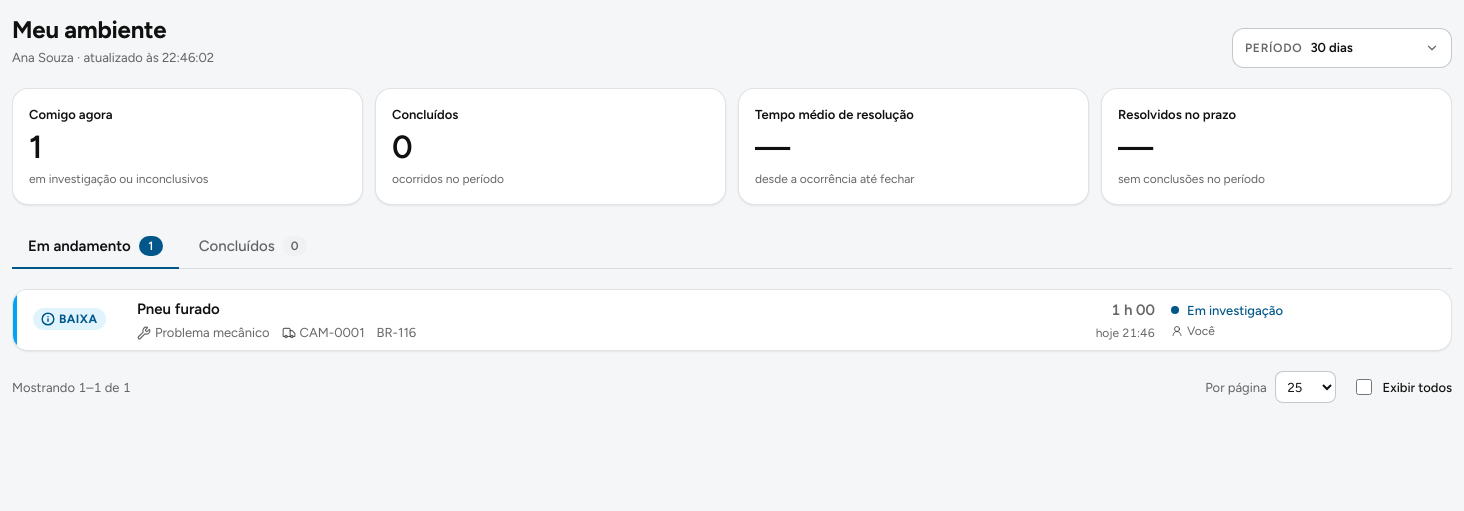
Test: WorkspacePage › lista só os incidentes do analista logado, com os concluídos numa aba à parte
Check: the text "Pneu furado" is shown, box top-left (137, 300), bottom-right (220, 318)
Check: the 2nd text "0" is shown, box top-left (283, 236), bottom-right (307, 256)
Click the tab "Concluídos 0" at (253, 247), box top-left (183, 225), bottom-right (323, 269)
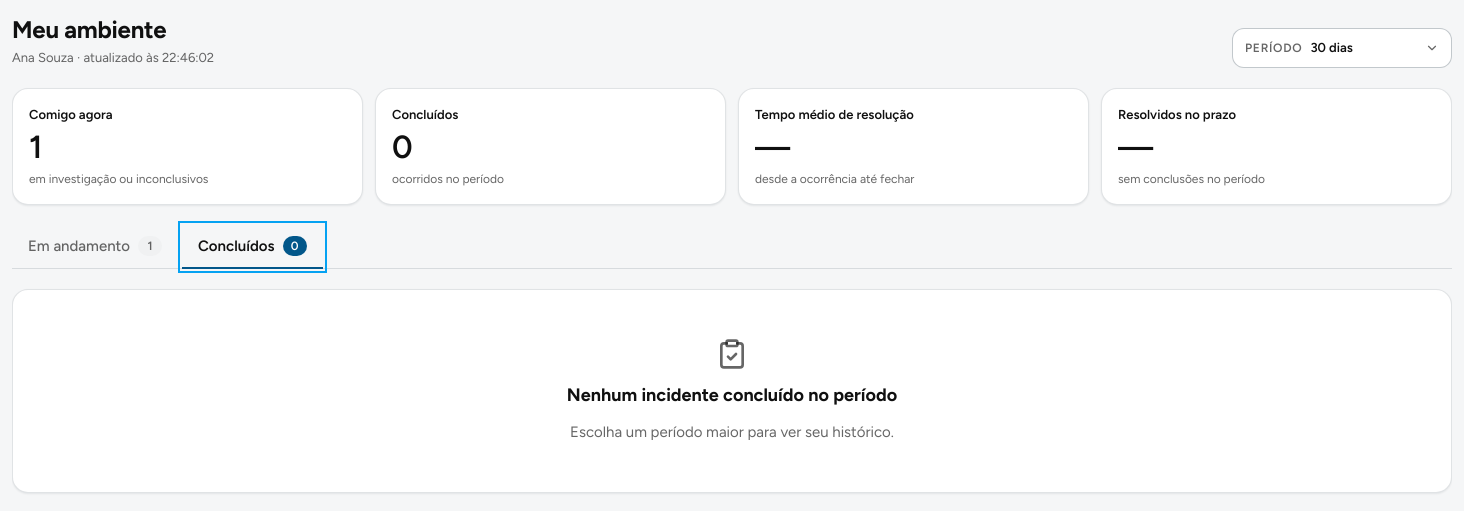
Check: the heading "Nenhum incidente concluído no período" is shown, box top-left (567, 382), bottom-right (897, 409)
